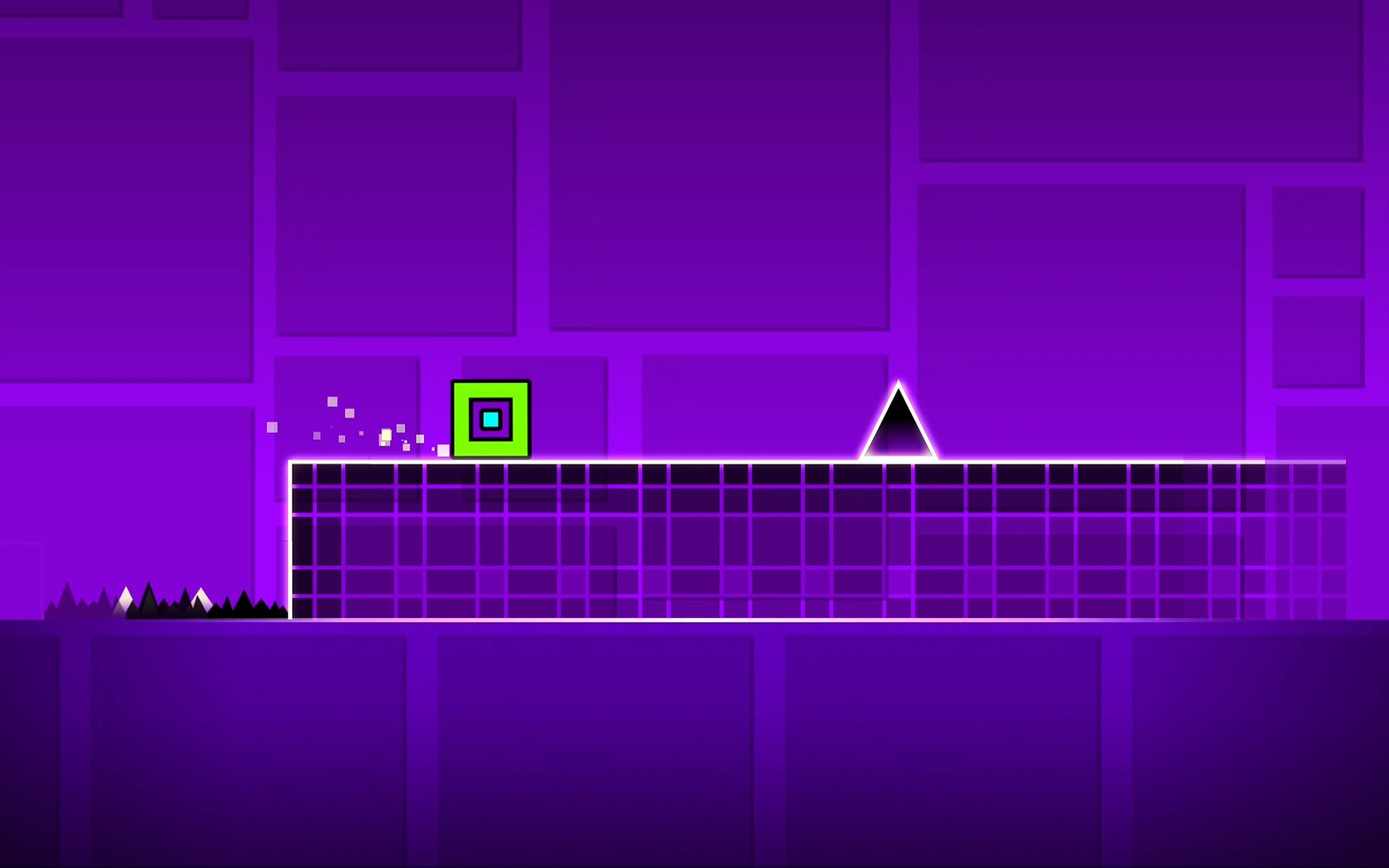Block2: (278, 454, 1353, 612)
Player: (449, 380, 530, 457)
Spike: (860, 382, 935, 458)
Spike3: (5, 581, 286, 622)
